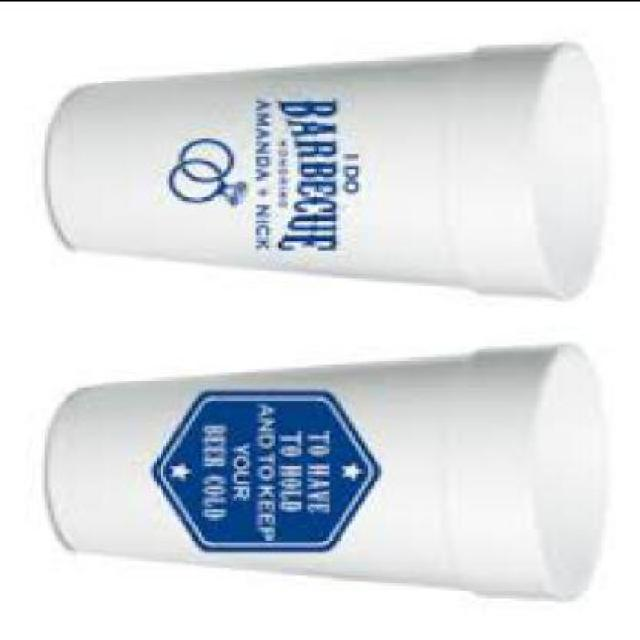PAPER: (52, 38, 618, 297), (51, 341, 614, 596)
